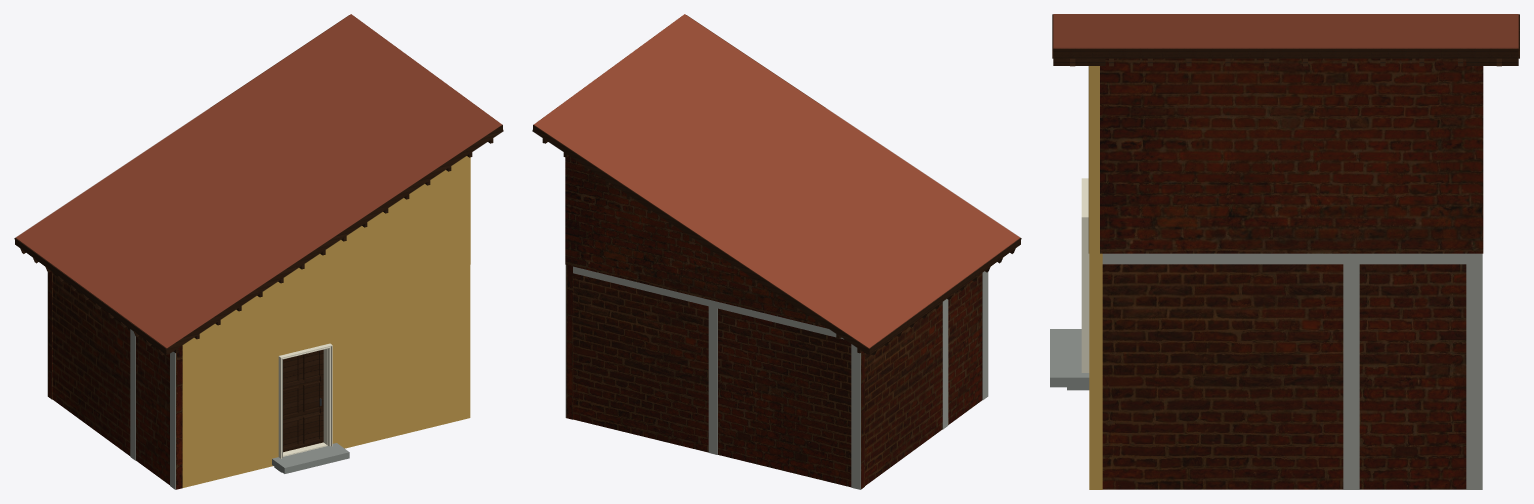
Rendered from building.glb.
3 views of the same model, side by side, from view 1: azimuth 30°, elevation 25°; view 2: azimuth 150°, elevation 25°; view 3: azimuth 270°, elevation 25° (orthographic). The views are drawn at different scales.
Parts seen in each view (by area): view 1: roof_assembly/cubierta/roof_cover#0001, house:0/edge0/z0/house:0/edge0/z0/wall_0_0, house:0/edge3/z0/house:0/edge3/z0/wall_0_0, roof_assembly/cubierta/roof_gable_closure#0002, roof_assembly/cubierta/roof_fascia#0002, site/entrance/0/entrance_step#0002, roof_assembly/cubierta/roof_fascia#0001, house:0/edge3/z0/house:0/edge3/z0/column_1_0, house:0/edge0/z0/opening_u2.80_v0.12/door_panel_back#0001, house:0/edge3/z0/house:0/edge3/z0/column_2_0, house:0/edge2/z0/house:0/edge2/z0/wall_0_0, house:0/edge0/z0/opening_u2.80_v0.12/door_moulding#0028 (+1 smaller); view 2: roof_assembly/cubierta/roof_cover#0001, house:0/edge2/z0/house:0/edge2/z0/wall_0_0, house:0/edge3/z0/house:0/edge3/z0/wall_0_0, roof_assembly/cubierta/roof_gable_closure#0006, roof_assembly/cubierta/roof_fascia#0004, house:0/edge2/z0/house:0/edge2/z0/beam_0_0, house:0/edge2/z0/house:0/edge2/z0/column_2_0, house:0/edge2/z0/house:0/edge2/z0/column_1_0, house:0/edge1/z0/house:0/edge1/z0/wall_0_0, roof_assembly/cubierta/roof_fascia#0001, house:0/edge3/z0/house:0/edge3/z0/column_2_0, house:0/edge3/z0/house:0/edge3/z0/column_1_0 (+1 smaller); view 3: house:0/edge1/z0/house:0/edge1/z0/wall_0_0, roof_assembly/cubierta/roof_gable_closure#0004, roof_assembly/cubierta/roof_cover#0001, roof_assembly/cubierta/roof_fascia#0003, house:0/edge1/z0/house:0/edge1/z0/beam_0_0, house:0/edge1/z0/house:0/edge1/z0/column_1_0, house:0/edge1/z0/house:0/edge1/z0/column_2_0, house:0/edge0/z0/house:0/edge0/z0/wall_0_0, roof_assembly/cubierta/roof_gable_closure#0003, site/entrance/0/entrance_step#0002, house:0/edge0/z0/opening_u2.80_v0.12/door_moulding#0028.
Boxes of the visible parts, x1,y1,x2,y2 form: roof_assembly/cubierta/roof_cover#0001: (16,14,501,348); house:0/edge0/z0/house:0/edge0/z0/wall_0_0: (182,265,470,487); house:0/edge3/z0/house:0/edge3/z0/wall_0_0: (52,272,182,489); roof_assembly/cubierta/roof_gable_closure#0002: (207,156,470,328); roof_assembly/cubierta/roof_fascia#0002: (165,126,503,354); site/entrance/0/entrance_step#0002: (272,443,349,473); roof_assembly/cubierta/roof_fascia#0001: (15,238,167,354); house:0/edge3/z0/house:0/edge3/z0/column_1_0: (170,351,175,489); house:0/edge0/z0/opening_u2.80_v0.12/door_panel_back#0001: (283,354,319,444); house:0/edge3/z0/house:0/edge3/z0/column_2_0: (130,329,135,460); house:0/edge2/z0/house:0/edge2/z0/wall_0_0: (48,271,52,399); house:0/edge0/z0/opening_u2.80_v0.12/door_moulding#0028: (278,343,332,458); roof_assembly/cubierta/roof_cover#0001: (534,14,1019,348); house:0/edge2/z0/house:0/edge2/z0/wall_0_0: (573,273,864,489); house:0/edge3/z0/house:0/edge3/z0/wall_0_0: (865,273,982,485); roof_assembly/cubierta/roof_gable_closure#0006: (571,157,828,328); roof_assembly/cubierta/roof_fascia#0004: (532,126,870,354); house:0/edge2/z0/house:0/edge2/z0/beam_0_0: (573,266,843,339); house:0/edge2/z0/house:0/edge2/z0/column_2_0: (708,306,717,454); house:0/edge2/z0/house:0/edge2/z0/column_1_0: (851,344,860,489); house:0/edge1/z0/house:0/edge1/z0/wall_0_0: (566,265,573,419); roof_assembly/cubierta/roof_fascia#0001: (868,238,1020,354); house:0/edge3/z0/house:0/edge3/z0/column_2_0: (942,299,948,429); house:0/edge3/z0/house:0/edge3/z0/column_1_0: (982,271,988,400); house:0/edge1/z0/house:0/edge1/z0/wall_0_0: (1102,264,1466,489); roof_assembly/cubierta/roof_gable_closure#0004: (1100,58,1482,253); roof_assembly/cubierta/roof_cover#0001: (1053,14,1518,48); roof_assembly/cubierta/roof_fascia#0003: (1053,48,1518,58); house:0/edge1/z0/house:0/edge1/z0/beam_0_0: (1102,253,1482,264); house:0/edge1/z0/house:0/edge1/z0/column_1_0: (1466,264,1482,489); house:0/edge1/z0/house:0/edge1/z0/column_2_0: (1343,264,1359,489); house:0/edge0/z0/house:0/edge0/z0/wall_0_0: (1089,253,1102,489); roof_assembly/cubierta/roof_gable_closure#0003: (1088,66,1099,253); site/entrance/0/entrance_step#0002: (1050,329,1089,387); house:0/edge0/z0/opening_u2.80_v0.12/door_moulding#0028: (1081,178,1089,372).
Bounding box in the file's own units: 9.16 × 7.74 × 7.17.
8 materials, 2 textured.
